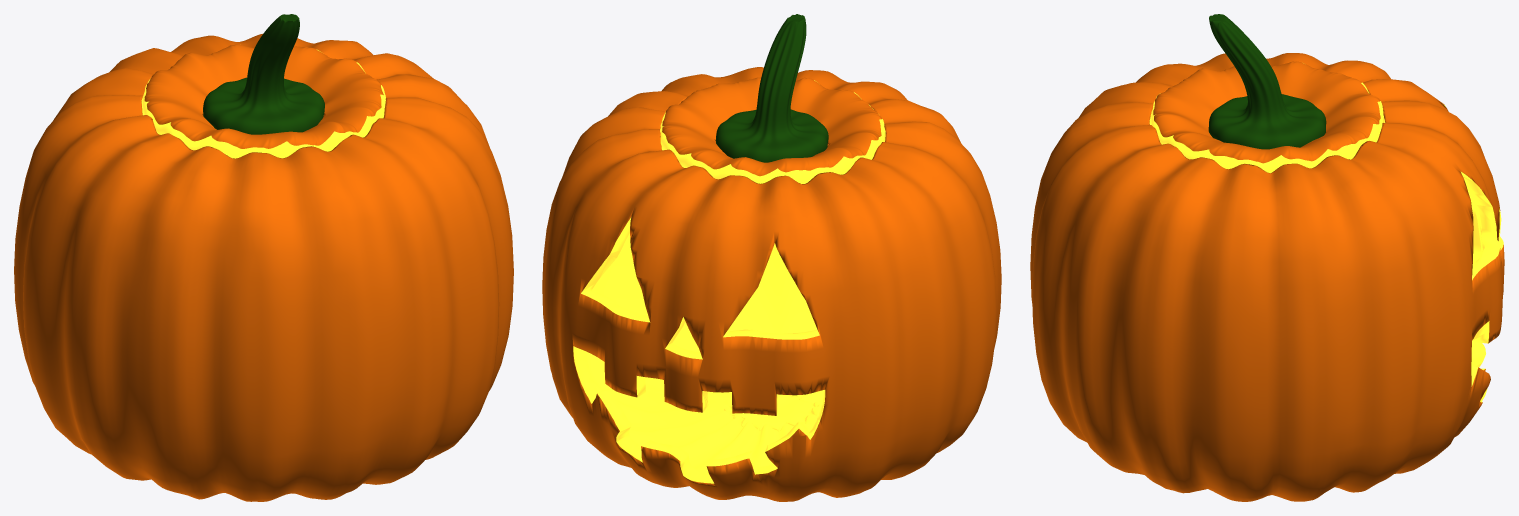
File: Good Jack.fbx
3 views of the same model, side by side, from view 1: azimuth 30°, elevation 25°; view 2: azimuth 150°, elevation 25°; view 3: azimuth 270°, elevation 25° (orthographic). The views are drawn at different scales.
Parts seen in each view (by area): view 1: Connect, Top; view 2: Connect, Top; view 3: Connect, Top.
Boxes of the visible parts, bbox=[...] form: Connect: bbox=[14, 34, 513, 501]; Top: bbox=[142, 14, 385, 158]; Connect: bbox=[542, 67, 1001, 501]; Top: bbox=[660, 14, 884, 183]; Connect: bbox=[1030, 53, 1504, 501]; Top: bbox=[1151, 14, 1383, 173].
Size of the model in its own units: 390 by 381 by 391.
